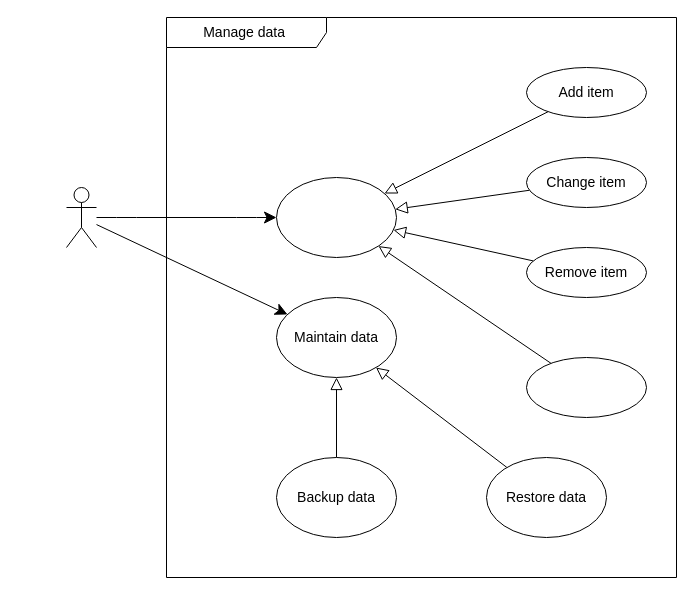
Image size: 694x595. Some labels were removed from this diagram. The shapes that lost their labels are listed below. From the top down, each one's centre as x and y in pixels, then its label:
point (81, 217): Restaurant manager
point (336, 217): Edit menu
point (586, 387): Update promotion
